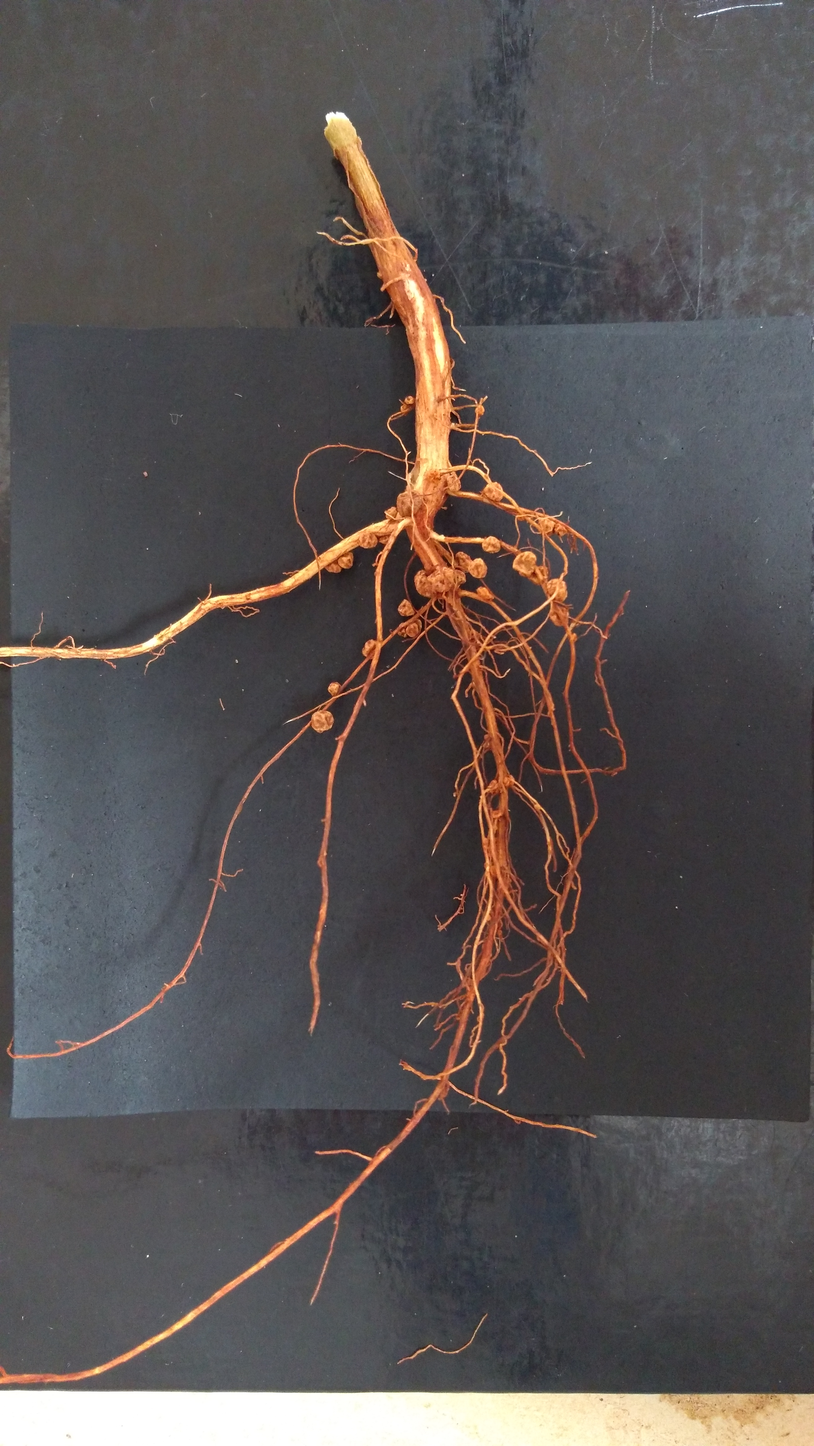nodule: (396, 490, 424, 518), (413, 569, 438, 599), (511, 551, 537, 578), (427, 567, 454, 593), (310, 710, 335, 734), (545, 578, 568, 602), (548, 605, 569, 627), (453, 550, 473, 571), (468, 557, 488, 578), (482, 482, 504, 501), (481, 535, 502, 554), (527, 565, 548, 584), (537, 516, 555, 536), (358, 531, 378, 549), (361, 639, 379, 659), (485, 835, 502, 856), (405, 619, 423, 637), (397, 598, 414, 617), (337, 552, 354, 569), (446, 474, 462, 492), (476, 586, 495, 601), (324, 559, 342, 574), (327, 681, 341, 697), (453, 568, 466, 585), (384, 506, 398, 521), (487, 779, 501, 794), (553, 523, 568, 536), (489, 863, 502, 878), (426, 467, 440, 480), (503, 774, 516, 788), (482, 733, 492, 750), (396, 627, 408, 638), (378, 534, 391, 544), (475, 404, 485, 416), (482, 836, 490, 851), (491, 809, 503, 819), (516, 511, 526, 522), (400, 404, 409, 415), (404, 396, 414, 404), (570, 632, 578, 642), (533, 803, 542, 811), (470, 678, 477, 688), (449, 471, 457, 478), (376, 272, 383, 279), (486, 914, 492, 922)
